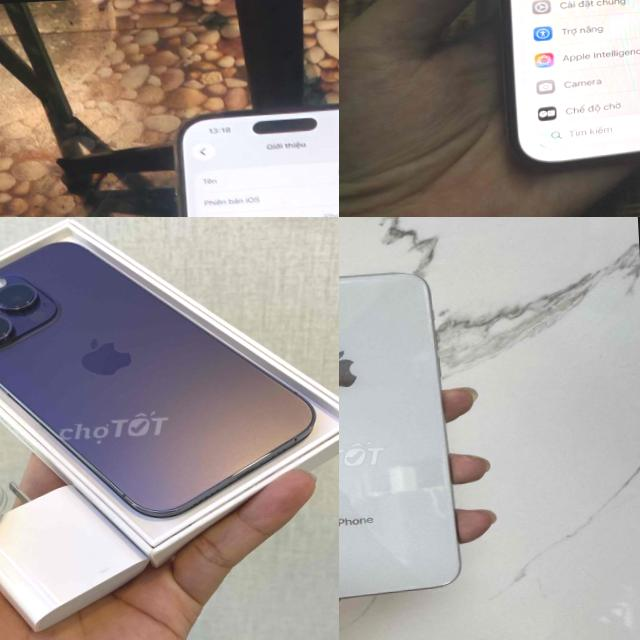gen_14: (0, 217, 330, 529), (149, 87, 339, 217)
gen_15: (460, 0, 640, 173)
gen_x_xs: (339, 261, 466, 610)
